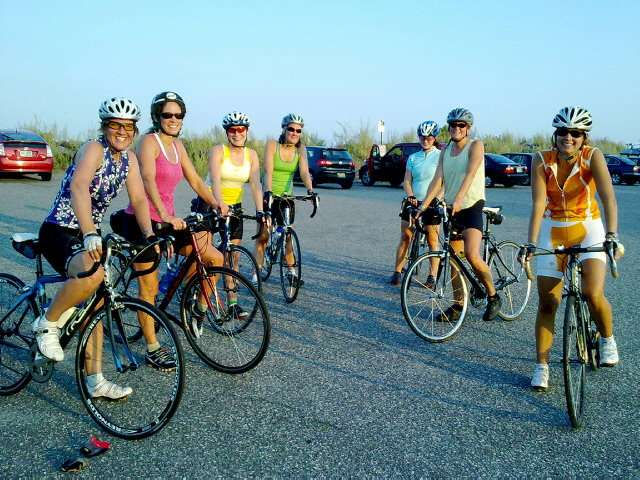with_helmet: (97, 97, 141, 127), (552, 103, 596, 132), (152, 91, 187, 122), (445, 109, 475, 132), (221, 112, 252, 132)
